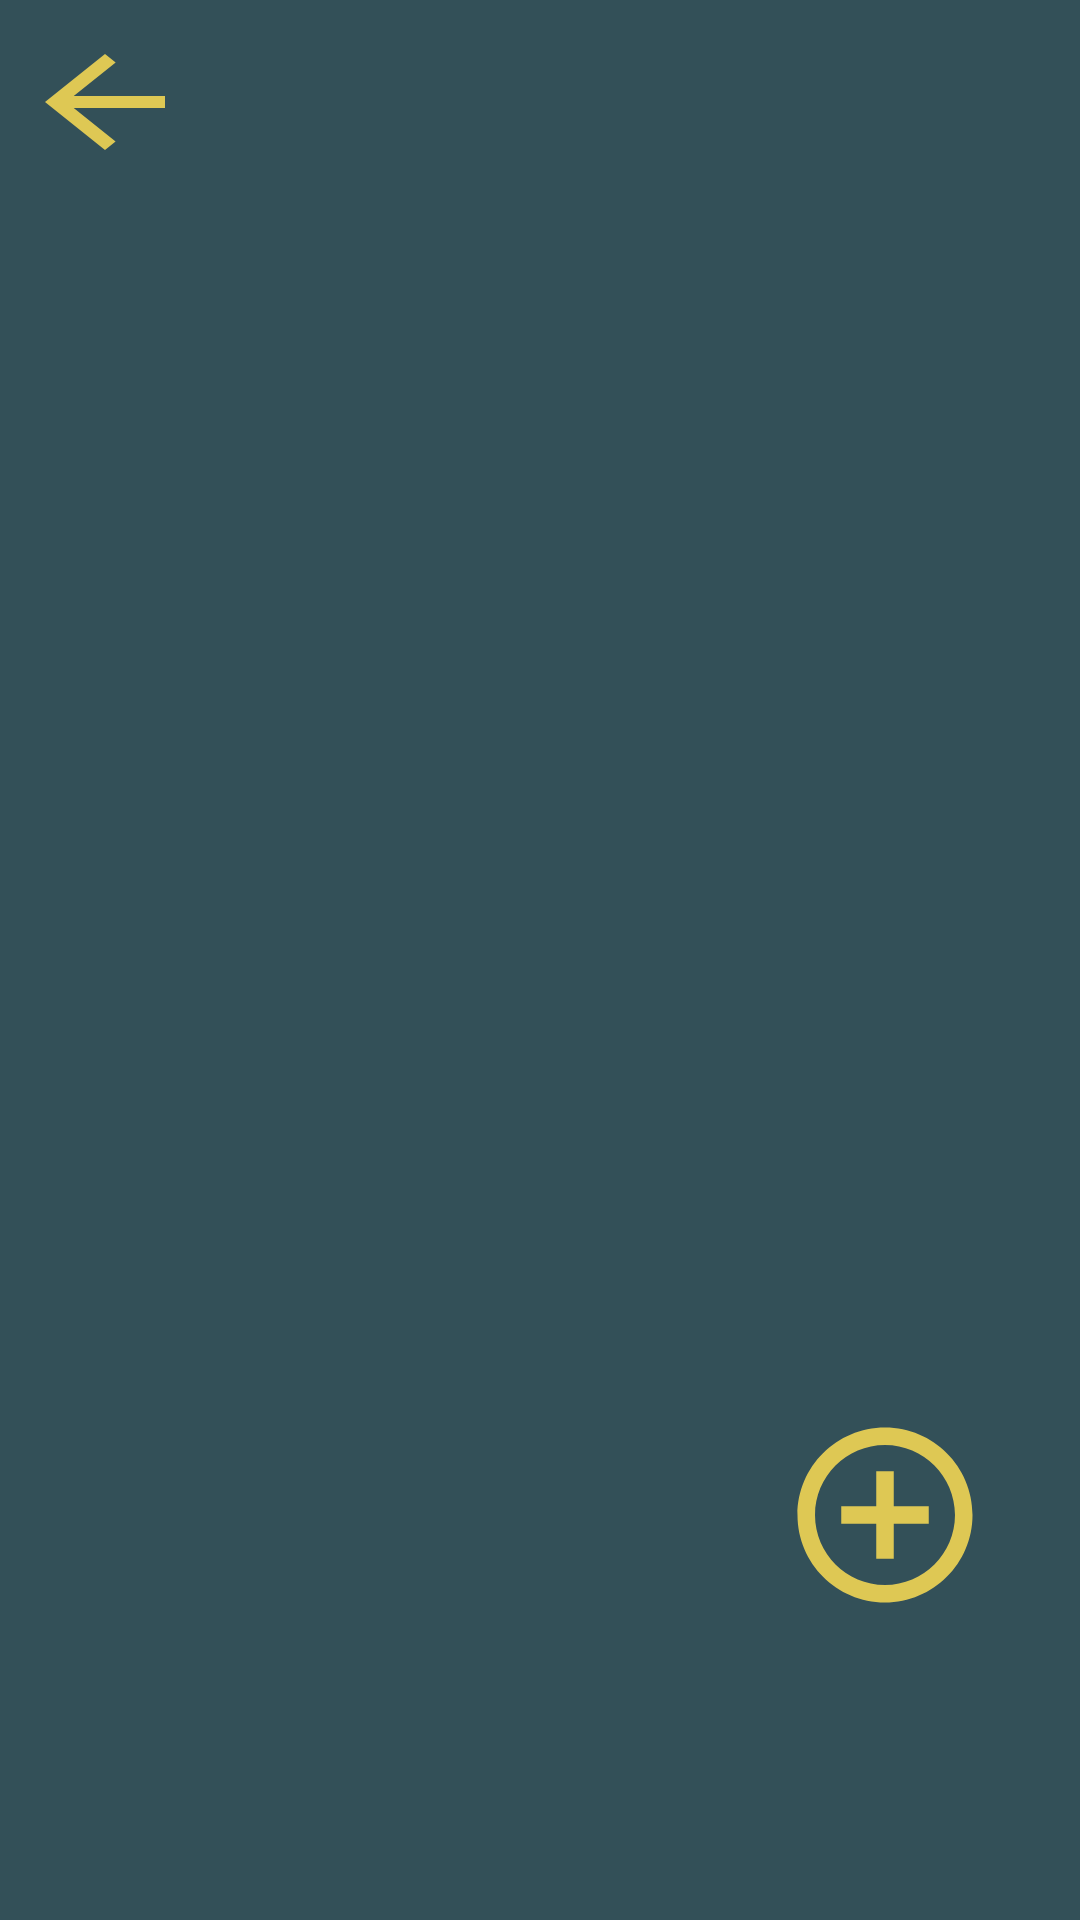

Where to tap for icons on this 1080×1920 app screen, as [x,y]:
add circle: [885,1515]
arrow back: [105,102]
